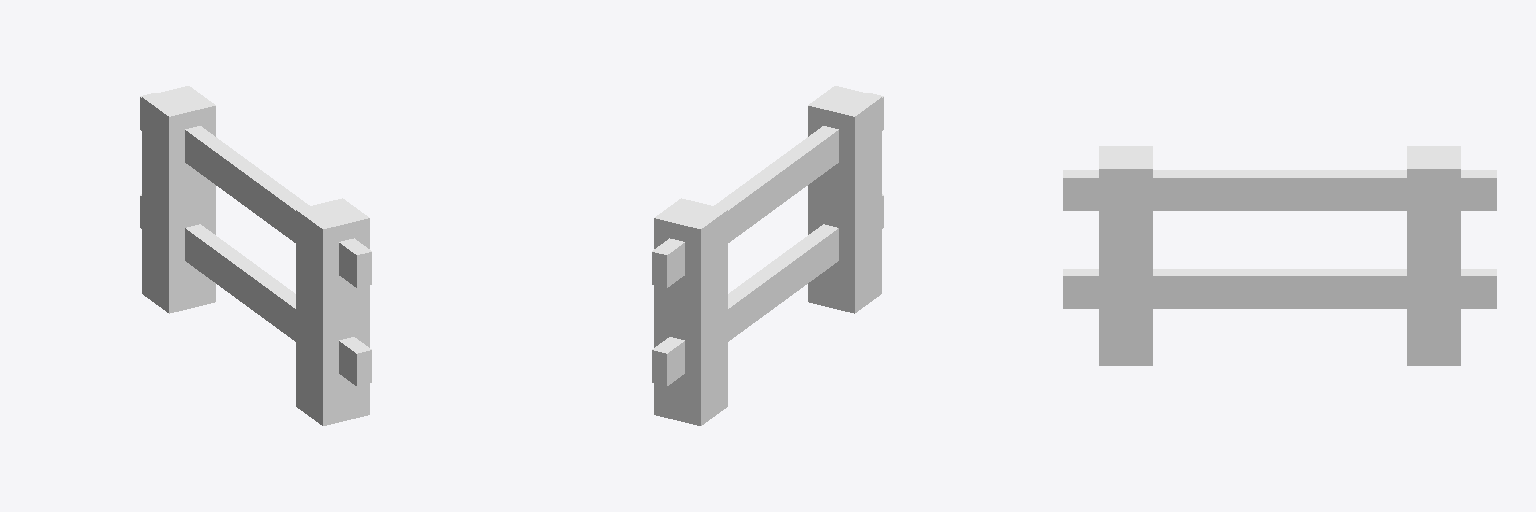
Rendered from Fence.obj.
The picture shows the model from 3 angles: view 1: azimuth 30°, elevation 25°; view 2: azimuth 150°, elevation 25°; view 3: azimuth 270°, elevation 25°; orthographic projection.
Parts seen in each view (by area): view 1: Lettuce_Level_2; view 2: Lettuce_Level_2; view 3: Lettuce_Level_2.
Boxes of the visible parts, x1=… form: Lettuce_Level_2: x1=140, y1=86, x2=371, y2=425; Lettuce_Level_2: x1=652, y1=86, x2=883, y2=425; Lettuce_Level_2: x1=1063, y1=146, x2=1496, y2=365.
Size of the model in its own units: 3 by 12 by 24.